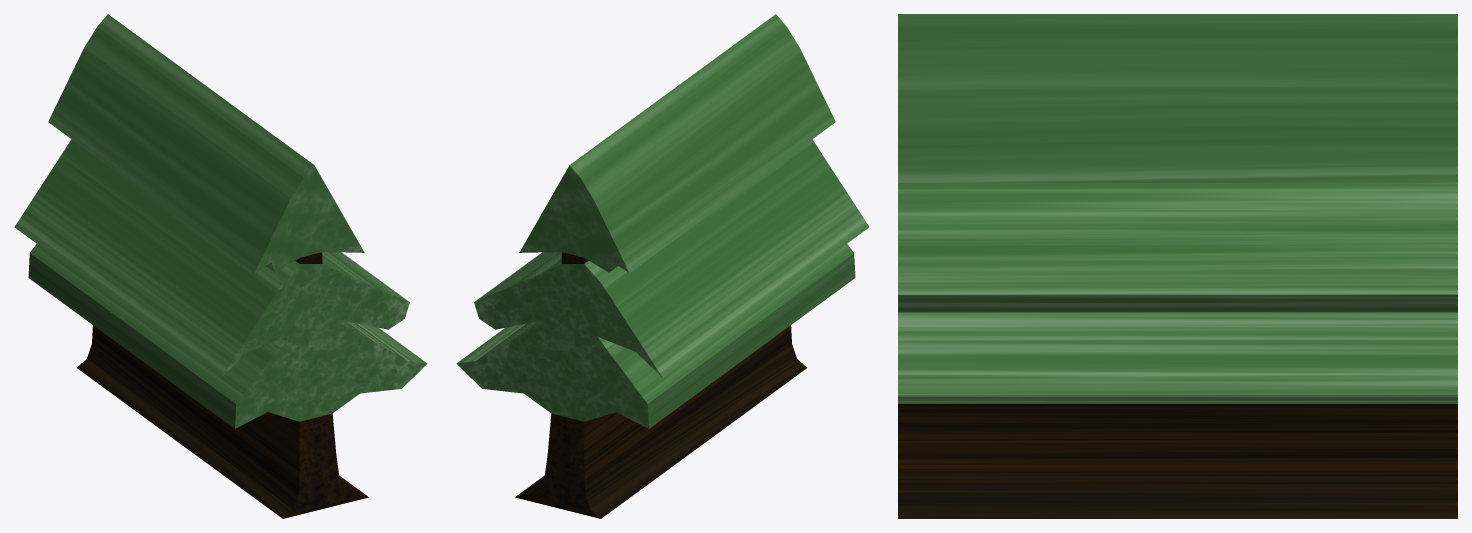
File: truetree.obj
3 renders of one model, left to right at view 1: azimuth 30°, elevation 25°; view 2: azimuth 150°, elevation 25°; view 3: azimuth 270°, elevation 25°, orthographic. The views are drawn at different scales.
Parts seen in each view (by area): view 1: Baum; view 2: Baum; view 3: Baum.
Boxes of the visible parts, x1,y1,x2,y2 form: Baum: (14,14,427,518); Baum: (456,14,869,518); Baum: (898,14,1457,518).
Size of the model in its own units: 1.72 by 2.75 by 2.97.
Materials: 1 (1 with a texture image).
